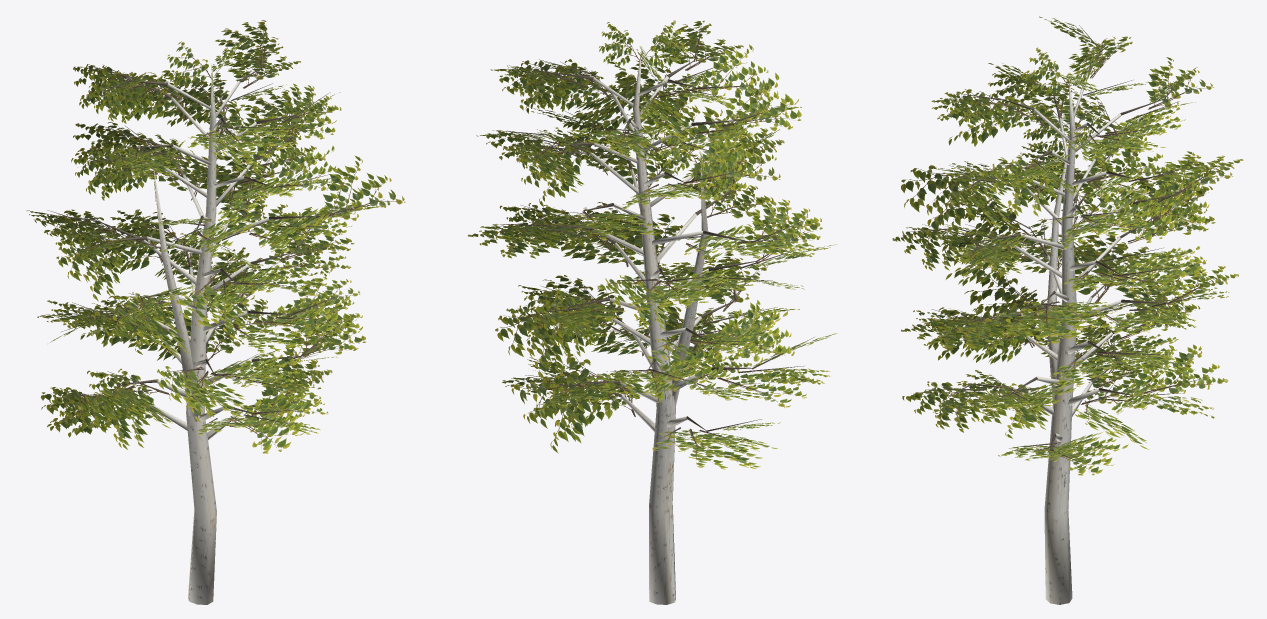
The model's file is CW_CardedRiverBirch_LOD1.fbx.
3 renders of one model, left to right at view 1: azimuth 30°, elevation 25°; view 2: azimuth 150°, elevation 25°; view 3: azimuth 270°, elevation 25°, orthographic. The views are drawn at different scales.
Parts seen in each view (by area): view 1: CW_CardedRiverBirch_LOD1_Leaves, CW_CardedRiverBirch_LOD1_WhiteBark, CW_CardedRiverBirch_LOD1_FineTwigs; view 2: CW_CardedRiverBirch_LOD1_Leaves, CW_CardedRiverBirch_LOD1_WhiteBark, CW_CardedRiverBirch_LOD1_FineTwigs; view 3: CW_CardedRiverBirch_LOD1_Leaves, CW_CardedRiverBirch_LOD1_WhiteBark, CW_CardedRiverBirch_LOD1_FineTwigs.
Boxes of the visible parts, <box> form: CW_CardedRiverBirch_LOD1_Leaves: <box>26,20,405,453</box>; CW_CardedRiverBirch_LOD1_WhiteBark: <box>143,70,269,604</box>; CW_CardedRiverBirch_LOD1_FineTwigs: <box>47,28,384,436</box>; CW_CardedRiverBirch_LOD1_Leaves: <box>468,20,836,469</box>; CW_CardedRiverBirch_LOD1_WhiteBark: <box>589,52,711,604</box>; CW_CardedRiverBirch_LOD1_FineTwigs: <box>492,26,814,451</box>; CW_CardedRiverBirch_LOD1_Leaves: <box>892,16,1243,475</box>; CW_CardedRiverBirch_LOD1_WhiteBark: <box>1007,72,1121,604</box>; CW_CardedRiverBirch_LOD1_FineTwigs: <box>910,25,1223,462</box>.
Bounding box in the file's own units: 4.53 × 7.21 × 4.33.
Materials: 3 (2 with a texture image).
